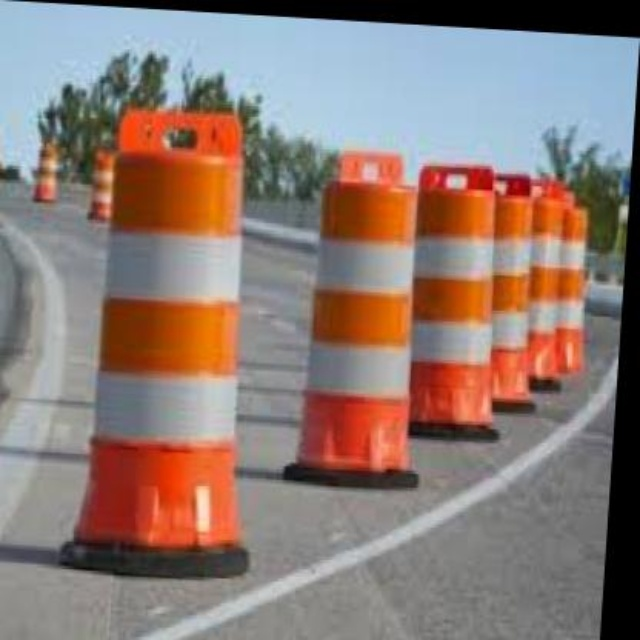obstacle: (83, 117, 272, 558), (307, 155, 433, 482)
